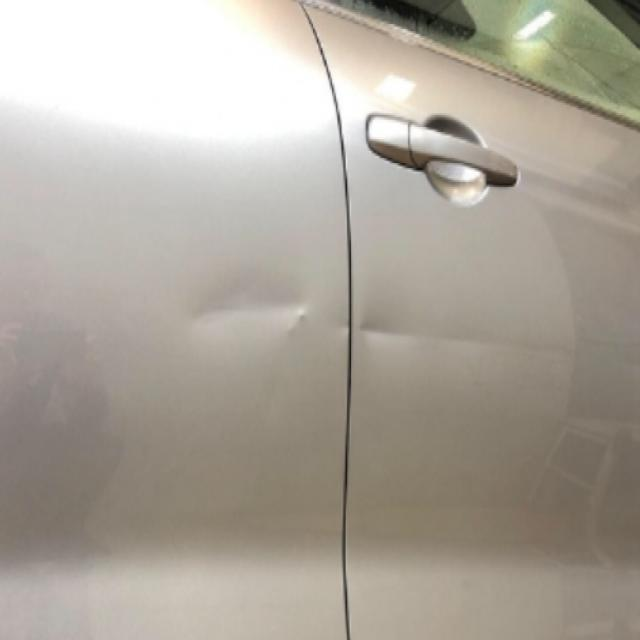dents: (183, 269, 310, 334), (357, 303, 417, 371)
